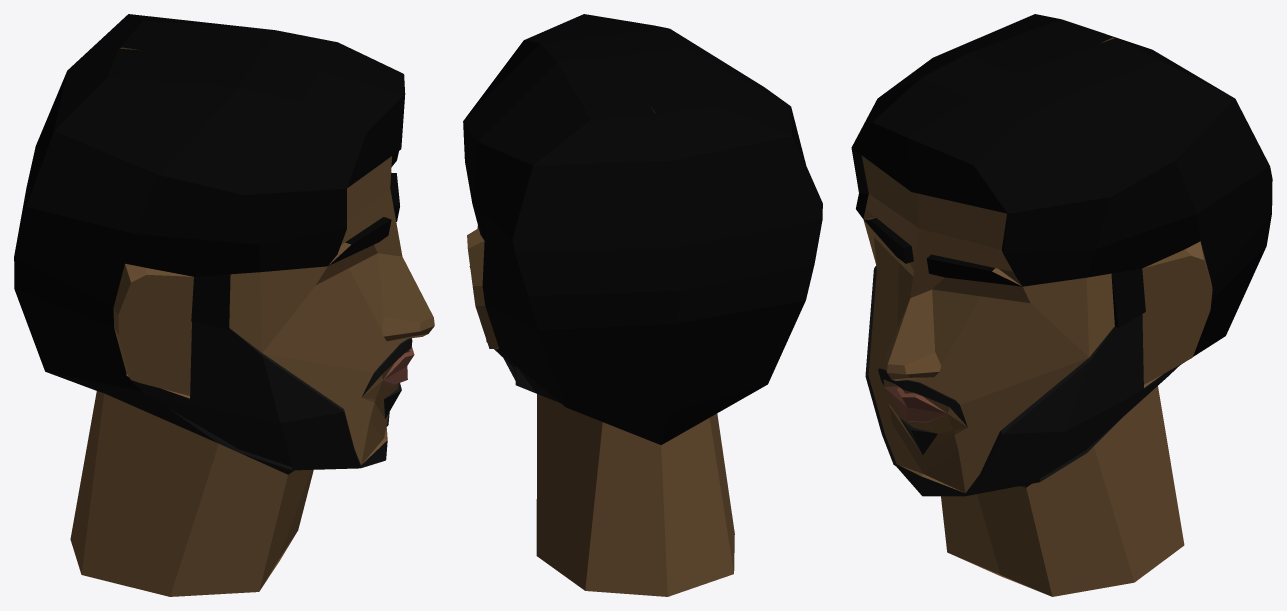
Rendered from self-no-glasses.glb.
The picture shows the model from 3 angles, left to right: view 1: azimuth 30°, elevation 25°; view 2: azimuth 150°, elevation 25°; view 3: azimuth 270°, elevation 25°; orthographic projection. The views are drawn at different scales.
Visible parts, largest first — view 1: Face-1; view 2: Face-1; view 3: Face-1.
Boxes of the visible parts, x1,y1,x2,y2 form: Face-1: (14,14,434,596); Face-1: (463,14,822,596); Face-1: (851,14,1272,596).
Size of the model in its own units: 0.00636 by 0.00825 by 0.00636.
